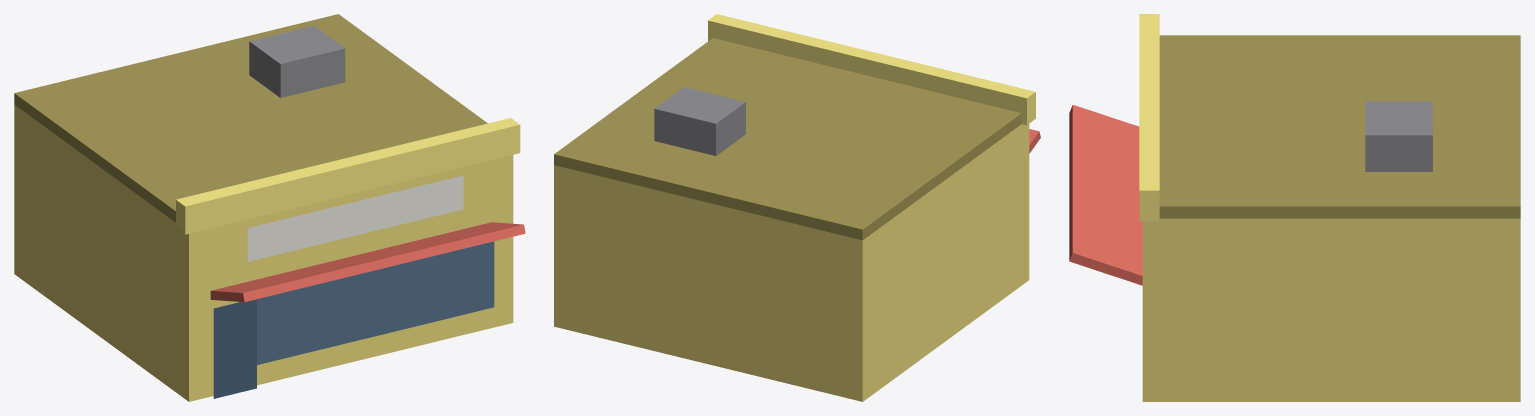
File: small_shop.glb
3 renders of one model, left to right at view 1: azimuth 30°, elevation 25°; view 2: azimuth 150°, elevation 25°; view 3: azimuth 270°, elevation 25°, orthographic. The views are drawn at different scales.
Visible parts, largest first — view 1: small_shop; view 2: small_shop; view 3: small_shop.
Boxes of the visible parts, x1=… form: small_shop: x1=14, y1=14, x2=525, y2=401; small_shop: x1=554, y1=14, x2=1040, y2=401; small_shop: x1=1069, y1=14, x2=1520, y2=401.
Bounding box in the file's own units: 0.62 × 0.38 × 0.6689.
